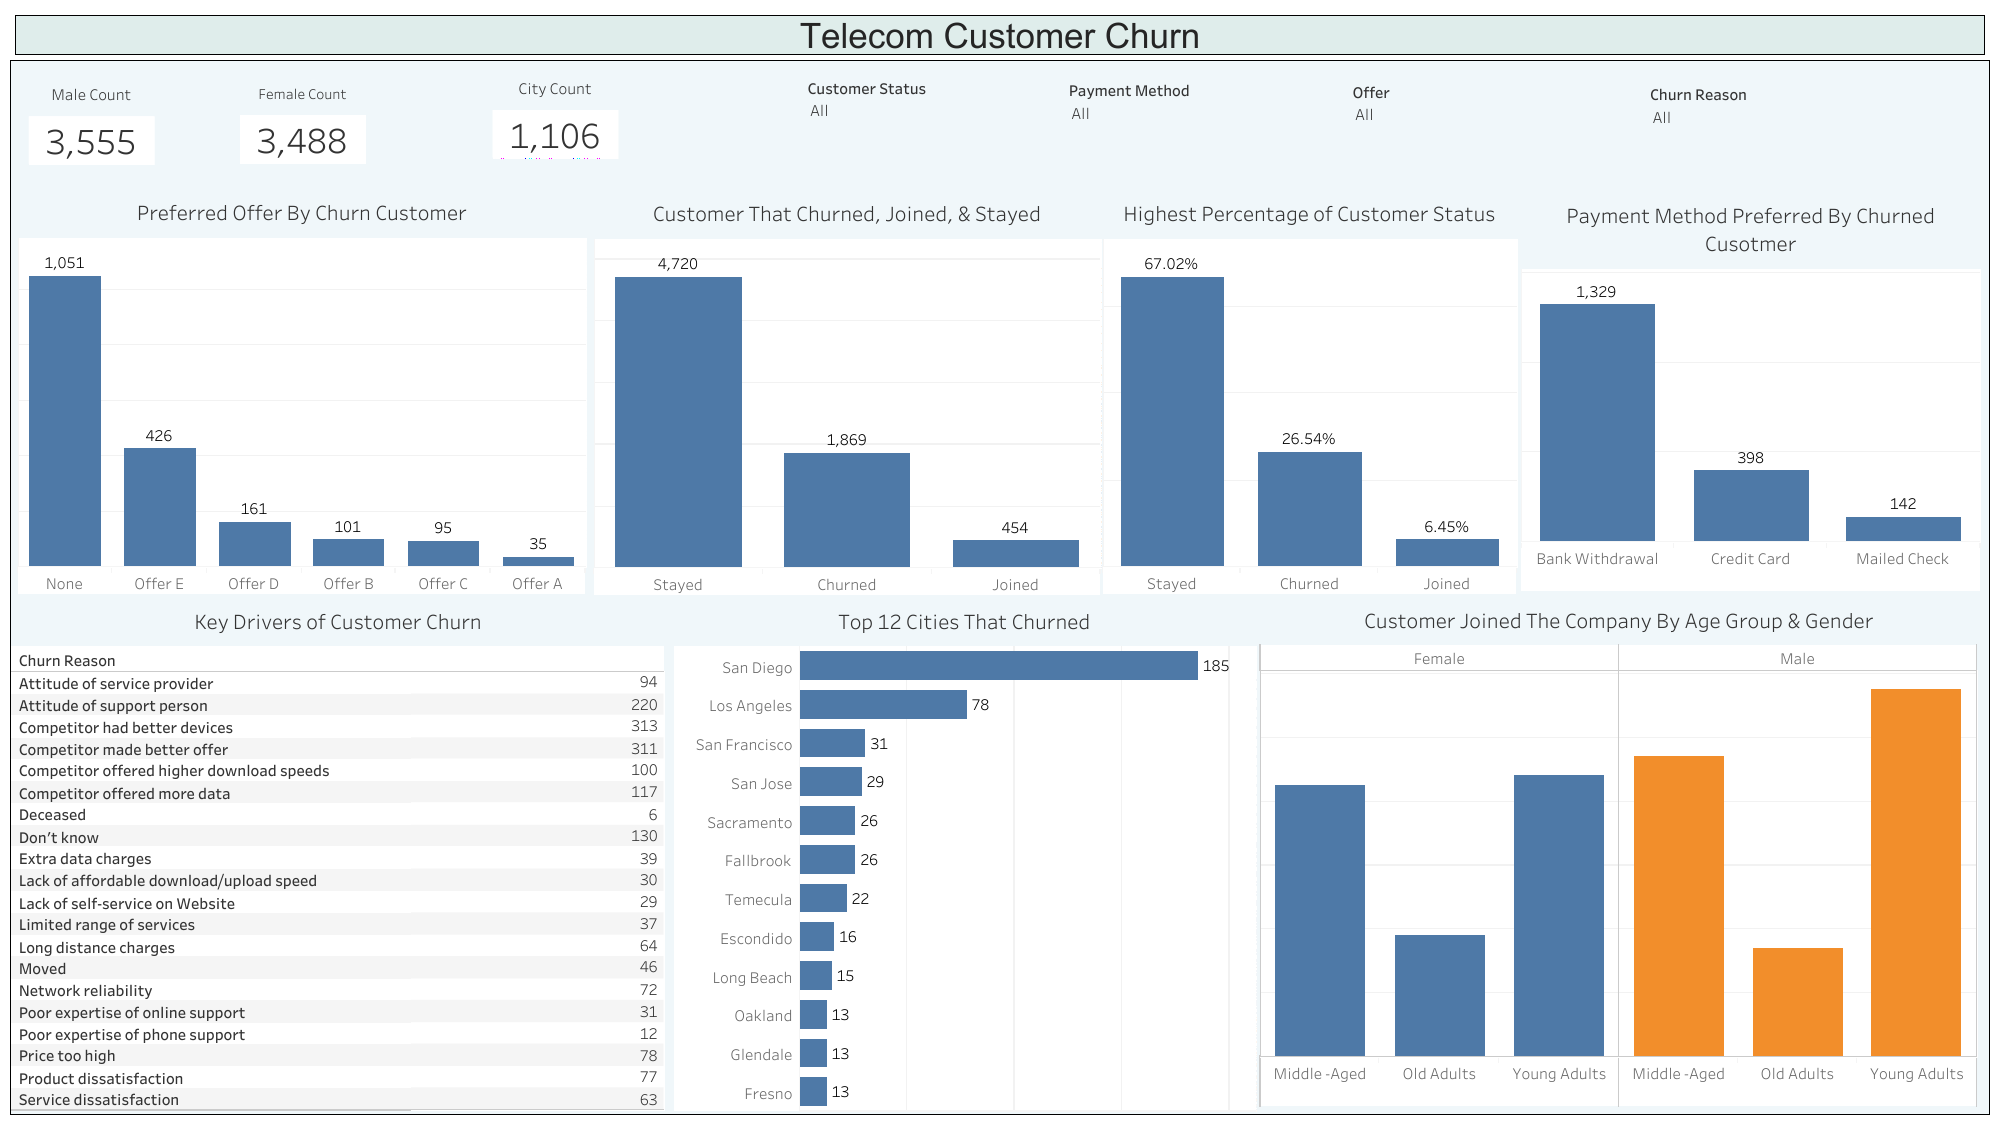

The dashboard page shown, as its layout file describes it:
{"tool":"tableau","page":{"name":"Telecom Customer Churn","canvas":[1600,900],"ordinal":0},"visuals":[{"type":"title","box":[8,8,1584,48]},{"type":"worksheet","title":"City Count","mark":"Automatic","box":[394,55,201,86]},{"type":"worksheet","title":"Male Count","mark":"Automatic","box":[23,60,210,87]},{"type":"worksheet","title":"Female Count","mark":"Automatic","box":[192,60,193,89]},{"type":"filter","title":"Q2. customer that churned, joined, and stayed","param":"[federated.1uys5el1vwfseh17kzevd18e7w9e].[none:Customer Status:nk]","box":[646,60,189,86]},{"type":"filter","title":"Q6. Payment method preferred by churned customer","param":"[federated.1uys5el1vwfseh17kzevd18e7w9e].[none:Payment Method:nk]","box":[855,62,210,84]},{"type":"filter","title":"Q8. Offers preferable by churned customers","param":"[federated.1uys5el1vwfseh17kzevd18e7w9e].[none:Offer:nk]","box":[1082,63,220,82]},{"type":"filter","title":"Q3. Key drivers of customer churn","param":"[federated.1uys5el1vwfseh17kzevd18e7w9e].[none:Churn Reason:nk]","box":[1320,65,241,81]},{"type":"worksheet","title":"Q8. Offers preferable by churned customers","mark":"Automatic","rows":["Offer"],"cols":["Offer"],"box":[14,152,455,323]},{"type":"worksheet","title":"Q2. customer that churned, joined, and stayed","mark":"Automatic","rows":["Customer Status"],"cols":["Customer Status"],"box":[475,153,405,323]},{"type":"worksheet","title":"Q5. highest % of customer status","mark":"Automatic","cols":["Customer Status"],"box":[882,153,331,322]},{"type":"worksheet","title":"Q6. Payment method preferred by churned customer","mark":"Automatic","rows":["Payment Method"],"cols":["Payment Method"],"box":[1217,154,367,319]},{"type":"legend","title":"Q2. customer that churned, joined, and stayed","param":"[federated.1uys5el1vwfseh17kzevd18e7w9e].[none:Customer Status:nk]","box":[491,286,140,85]},{"type":"worksheet","title":"Q1. customers joined the company by agegroup and gender","mark":"Automatic","rows":["Customer ID"],"cols":["Customer Status","Gender"],"box":[1008,478,574,408]},{"type":"worksheet","title":"Q3. Key drivers of customer churn","mark":"Automatic","rows":["Churn Reason"],"box":[9,479,523,410]},{"type":"worksheet","title":"Q7. Top 12 cities that churned","mark":"Automatic","rows":["City"],"cols":["Churn Reason"],"box":[539,479,465,410]},{"type":"legend","title":"Q6. Payment method preferred by churned customer","param":"[federated.1uys5el1vwfseh17kzevd18e7w9e].[none:Payment Method:nk]","box":[801,546,150,85]}]}

Visuals, with their boxes in screenshot pixels (x1, y1, x2, y2), scaled from the page's 1600x900 canvas onto the 1999x1124 screenshot:
title: box=[10, 10, 1989, 70]
"City Count" worksheet: box=[492, 69, 743, 176]
"Male Count" worksheet: box=[29, 75, 291, 184]
"Female Count" worksheet: box=[240, 75, 481, 186]
"Q2. customer that churned, joined, and stayed" filter: box=[807, 75, 1043, 182]
"Q6. Payment method preferred by churned customer" filter: box=[1068, 77, 1331, 182]
"Q8. Offers preferable by churned customers" filter: box=[1352, 79, 1627, 181]
"Q3. Key drivers of customer churn" filter: box=[1649, 81, 1950, 182]
"Q8. Offers preferable by churned customers" worksheet: box=[17, 190, 586, 593]
"Q2. customer that churned, joined, and stayed" worksheet: box=[593, 191, 1099, 594]
"Q5. highest % of customer status" worksheet: box=[1102, 191, 1515, 593]
"Q6. Payment method preferred by churned customer" worksheet: box=[1520, 192, 1979, 591]
"Q2. customer that churned, joined, and stayed" legend: box=[613, 357, 788, 463]
"Q1. customers joined the company by agegroup and gender" worksheet: box=[1259, 597, 1977, 1107]
"Q3. Key drivers of customer churn" worksheet: box=[11, 598, 665, 1110]
"Q7. Top 12 cities that churned" worksheet: box=[673, 598, 1254, 1110]
"Q6. Payment method preferred by churned customer" legend: box=[1001, 682, 1188, 788]
